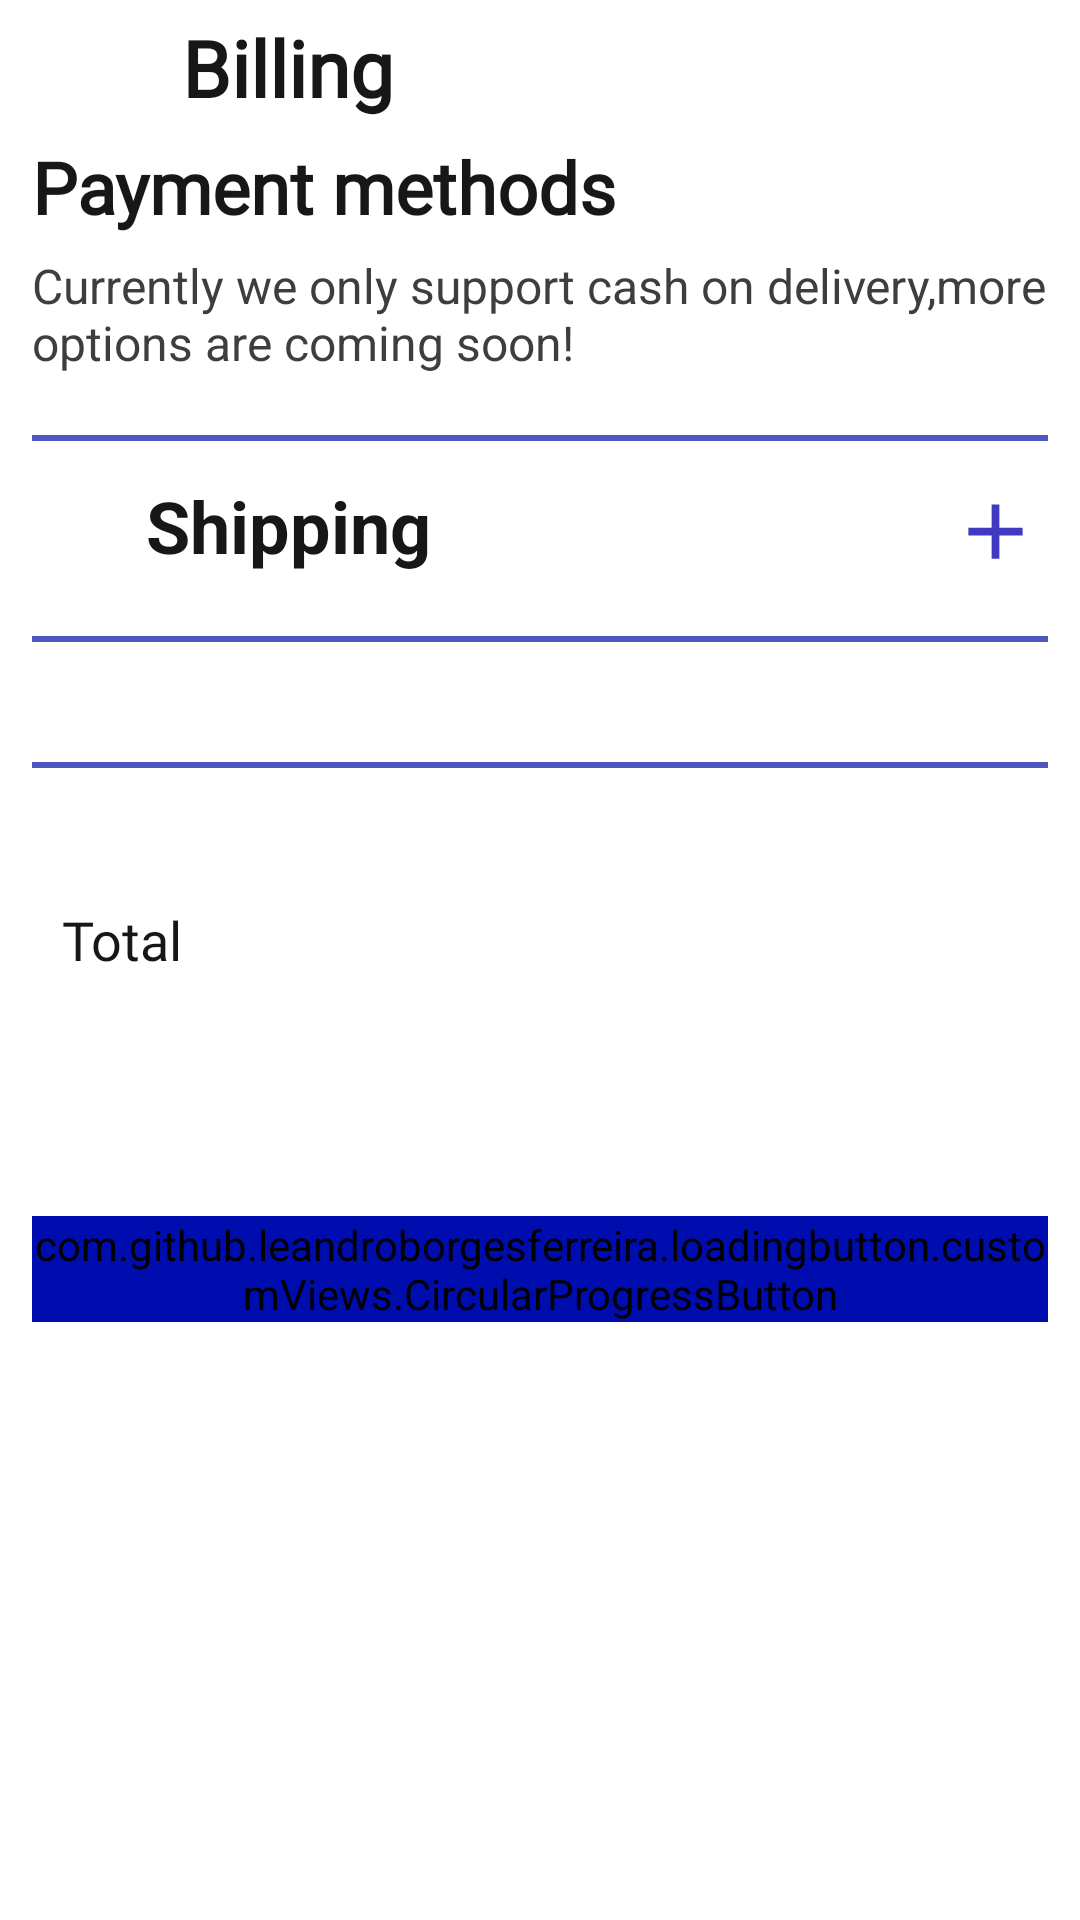

Where to tap for icons on this 1080×1920 app screen, as (x=x, y=y):
add addres: (x=995, y=531)
